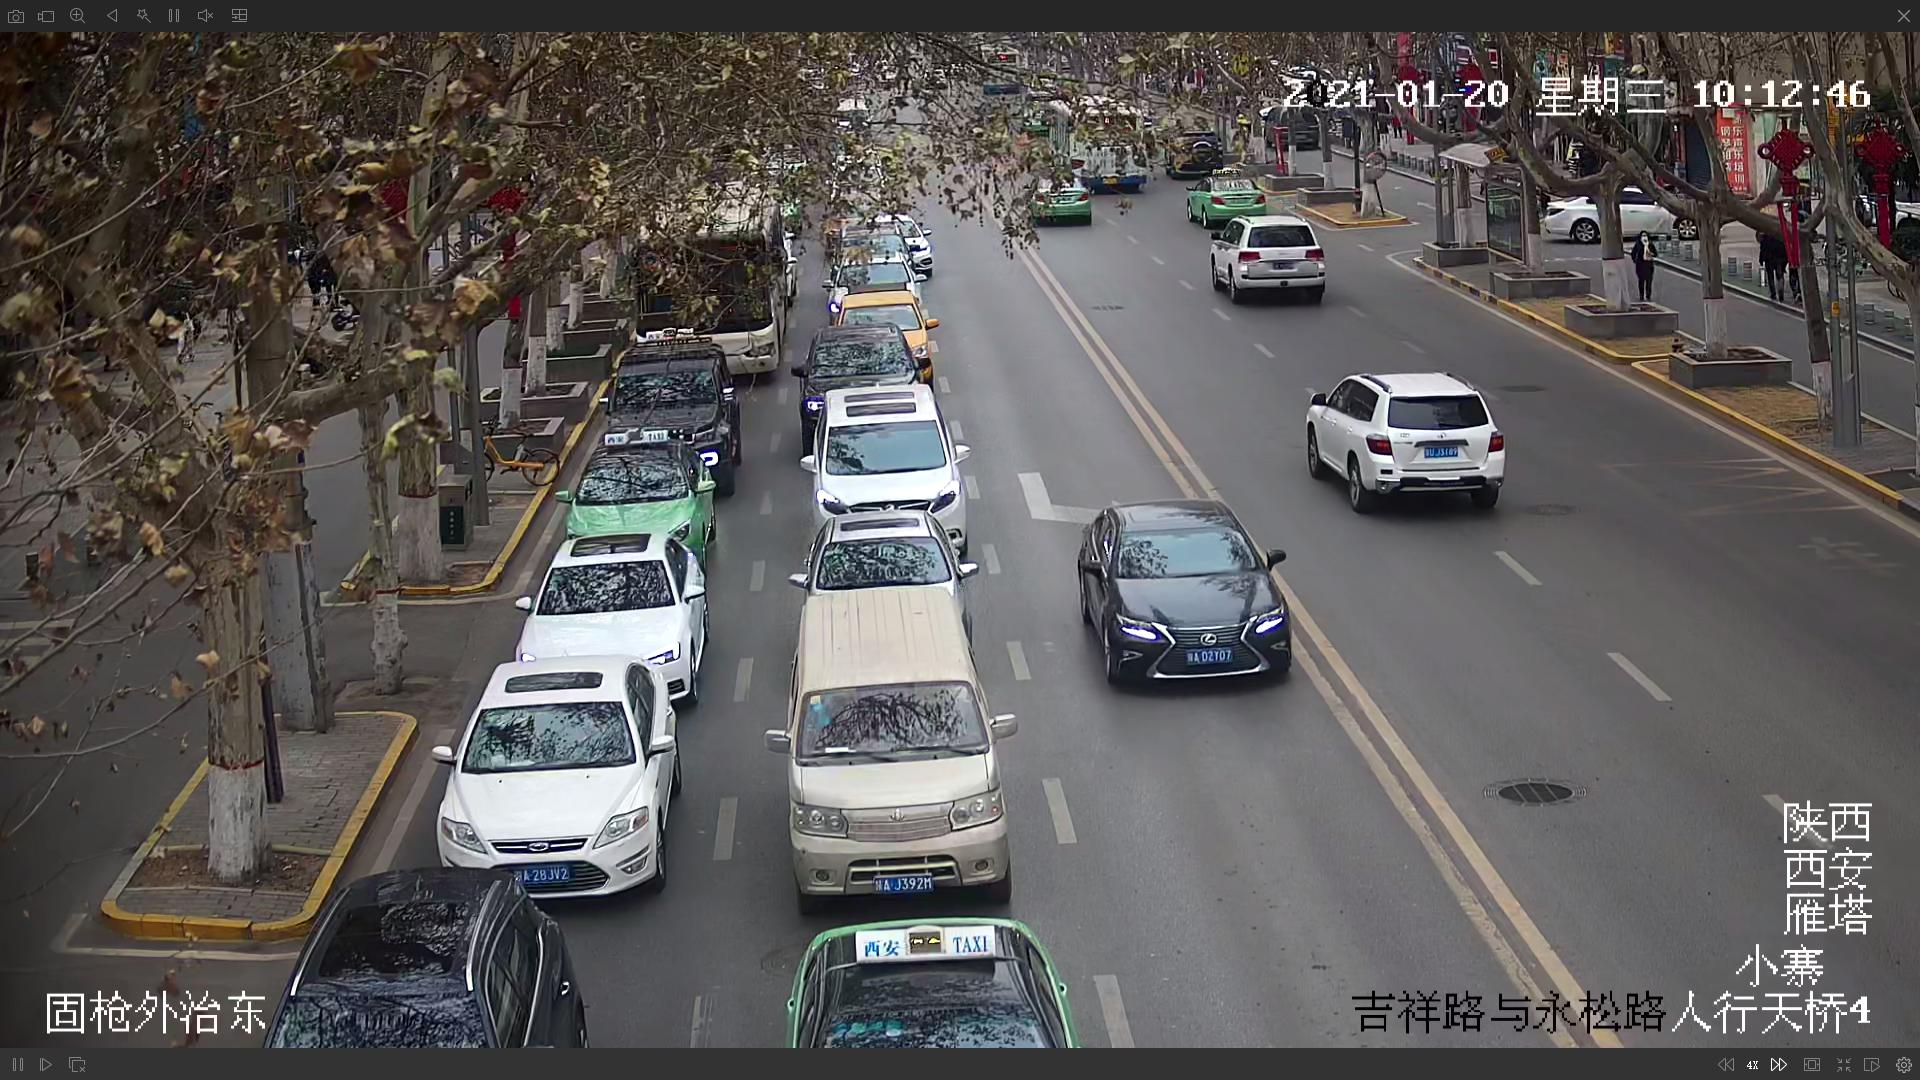black: (1085, 506, 1284, 687)
silver-gray: (781, 604, 1011, 891)
white: (440, 658, 673, 906)
